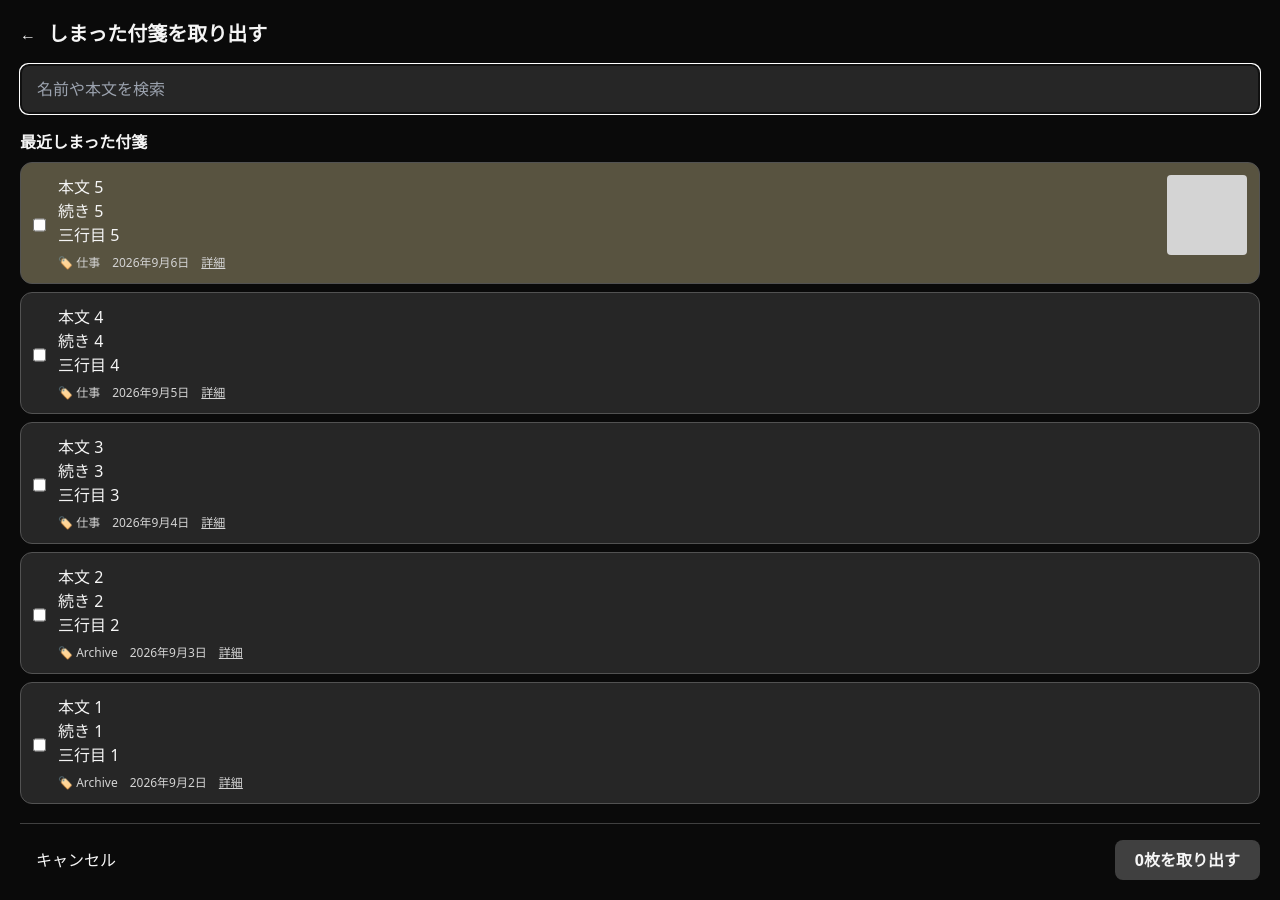
ArchivedNotesRestoreDialog › shows an error and re-enables restore when the restore command fails
What coordinates should you click on to do the following:
click the checkbox "本文 5 続き 5 三行目 5 🏷 仕事 2026年9月6日 詳細"
I would click on:
 (640, 223)
Its box is 20,162 -> 1260,284.
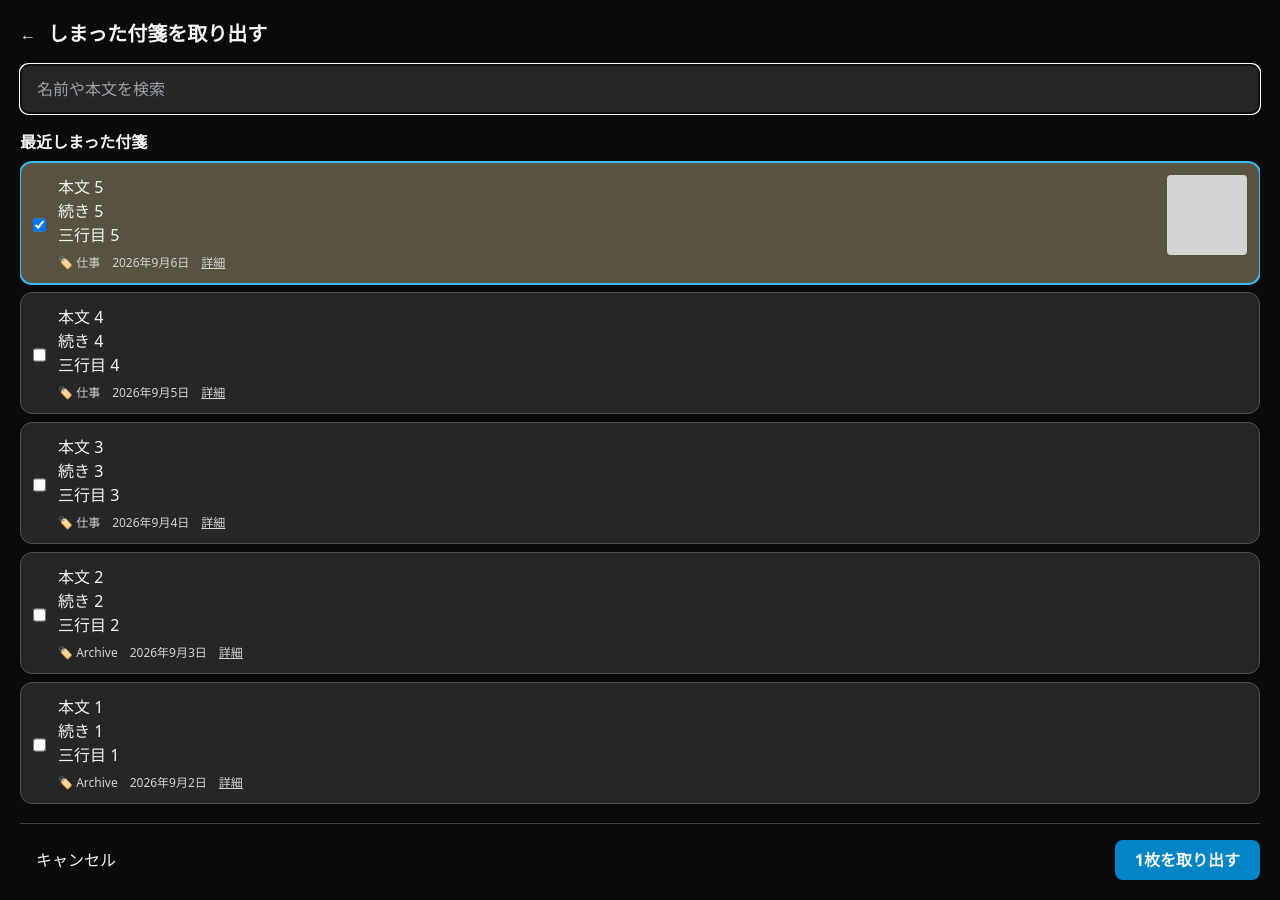
What coordinates should you click on to do the following:
click the button "1枚を取り出す"
I would click on:
 (1187, 860)
Its box is 1115,840 -> 1260,880.
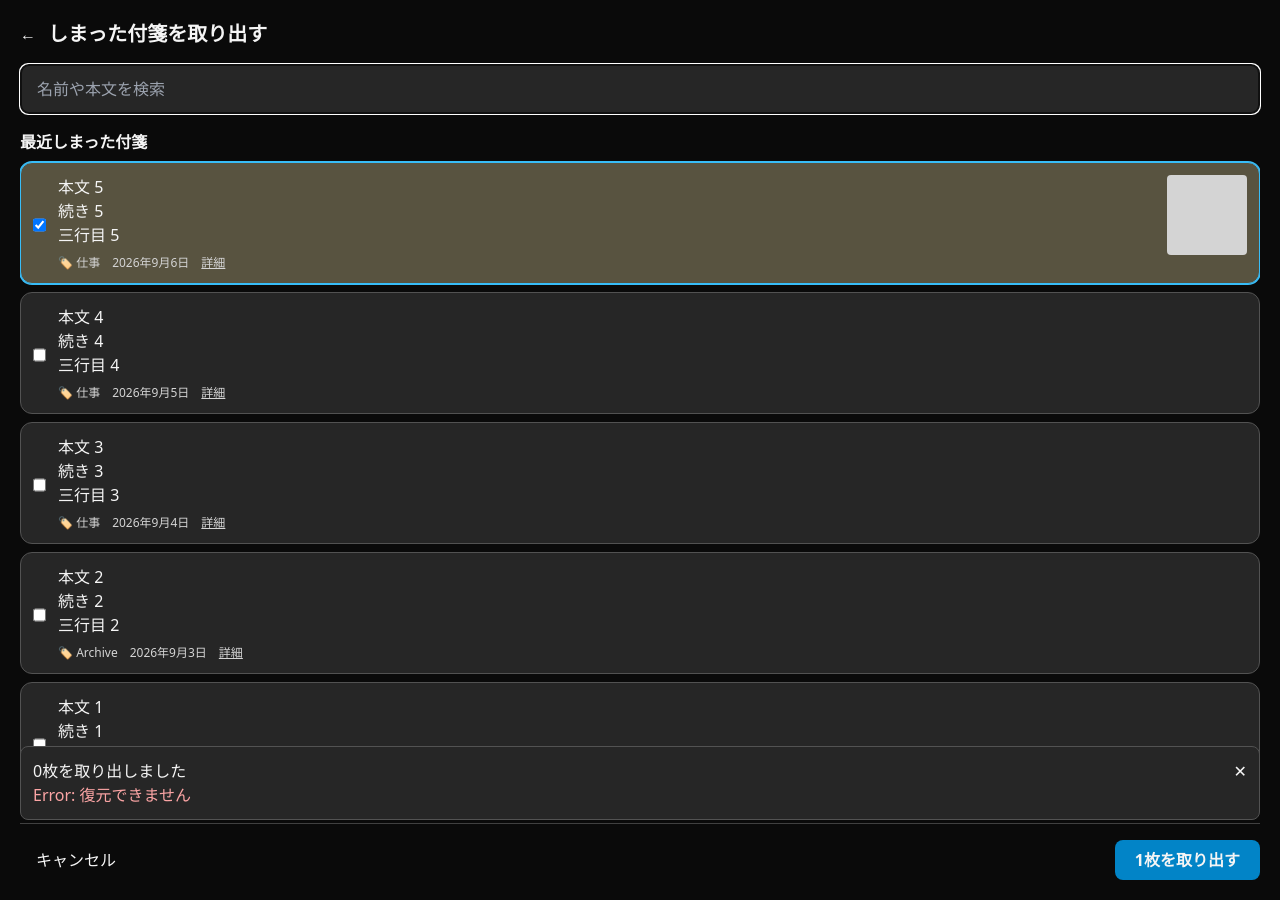
Result: the button "1枚を取り出す" is enabled at 1115,840 -> 1260,880
Result: the text "Error: 復元できません" is shown at 33,784 -> 191,806
